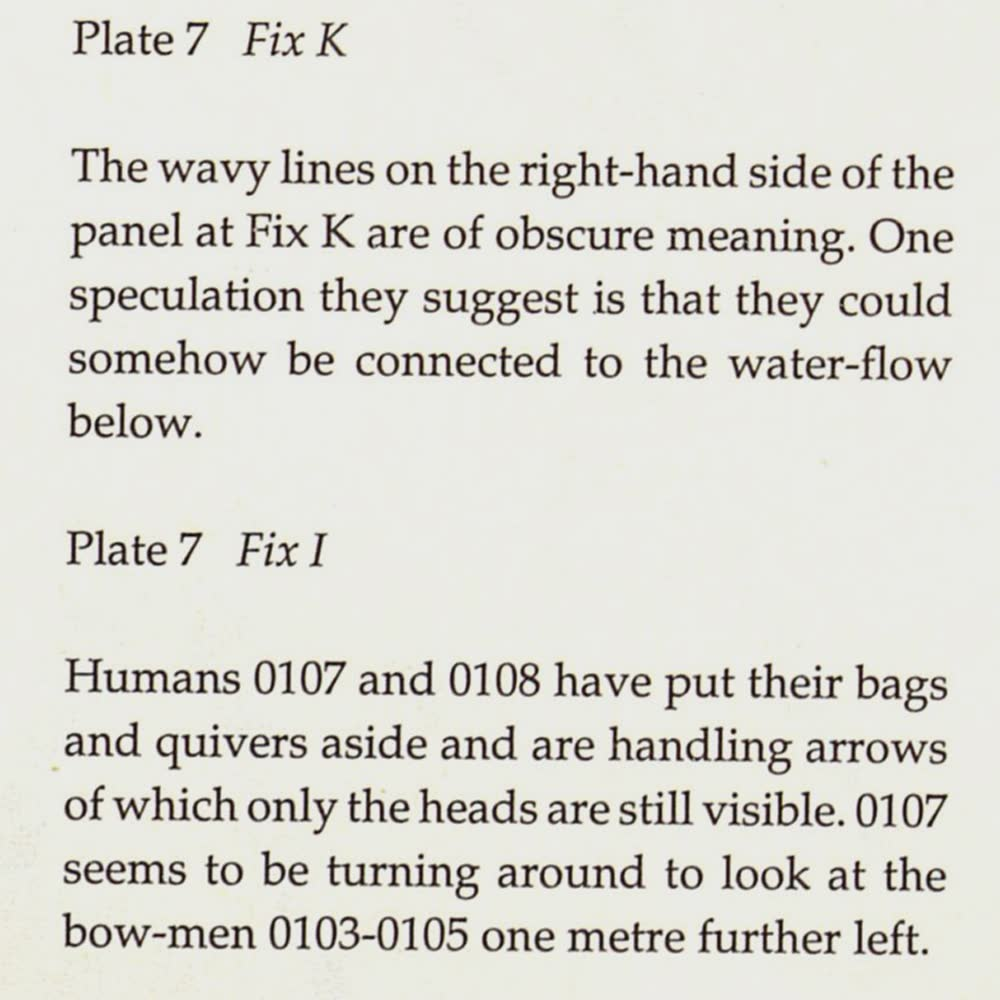text: (59, 523, 959, 976), (59, 12, 968, 450)
